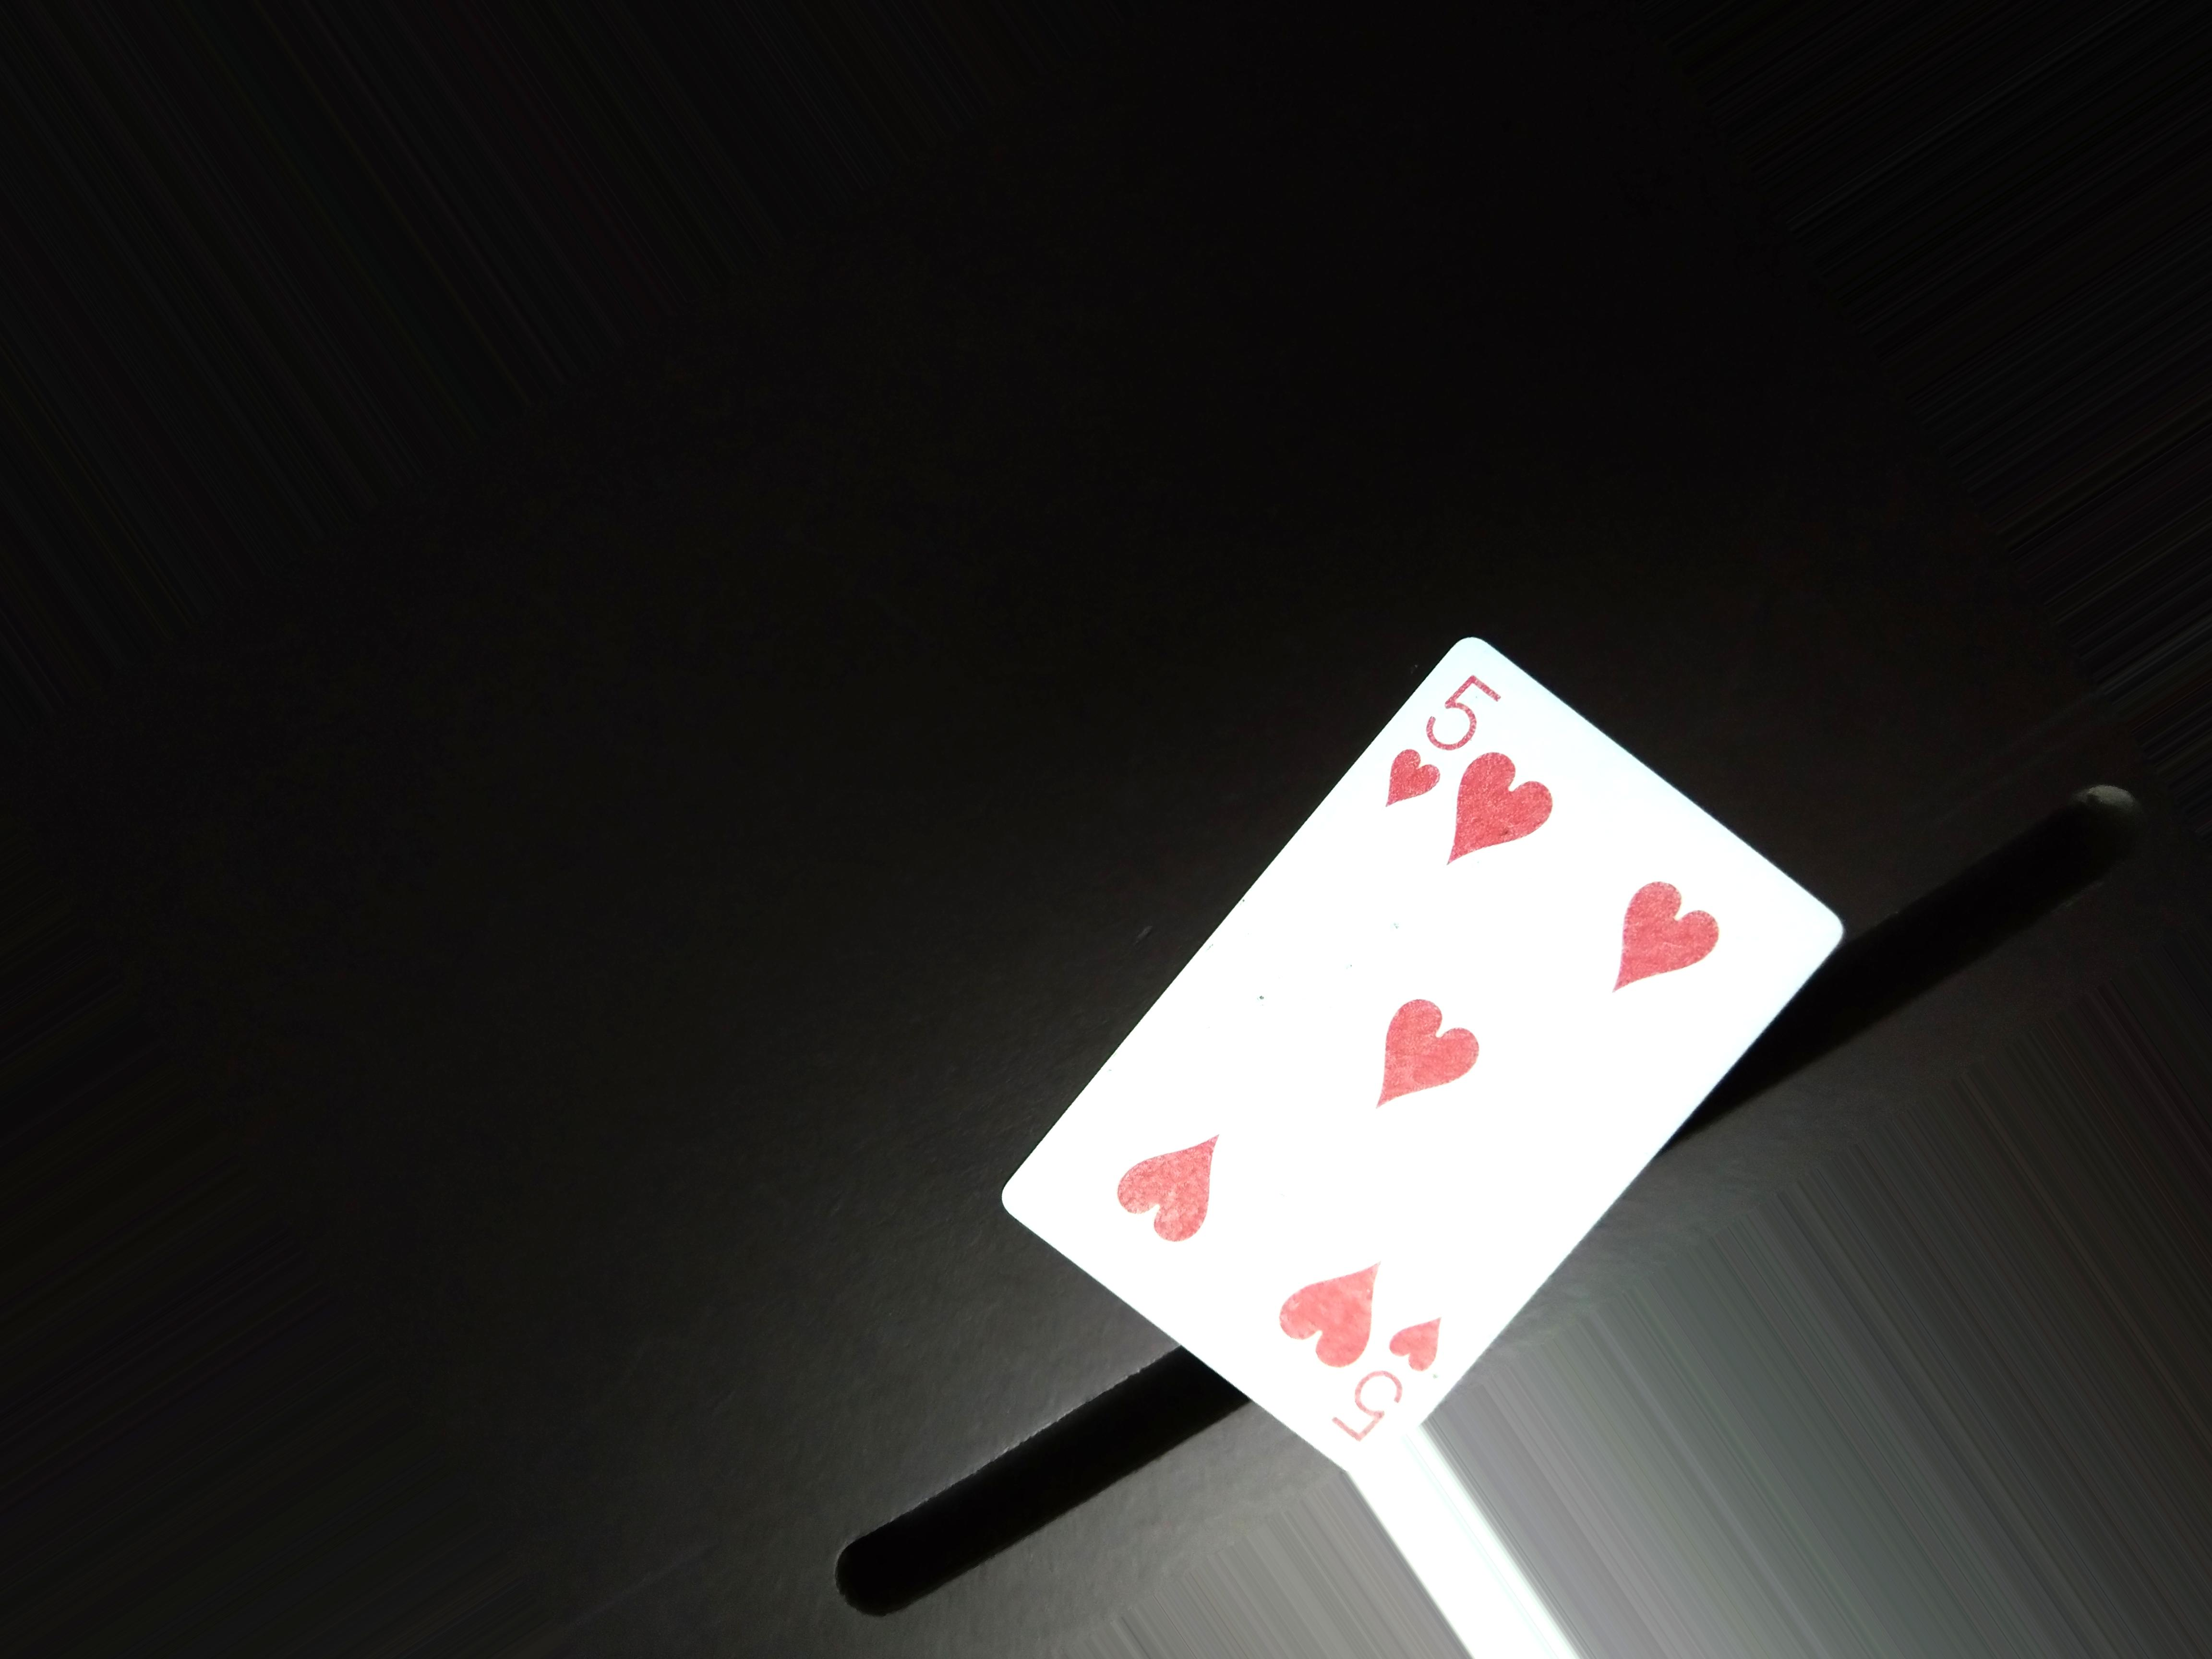5H: (1339, 1288, 1468, 1457)
